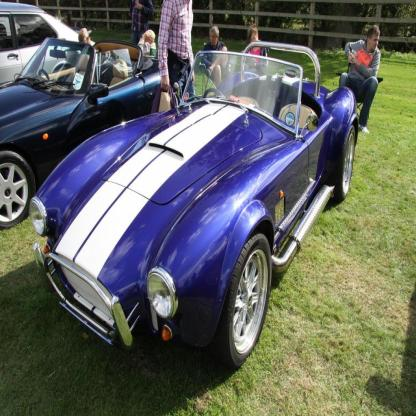Car: (30, 42, 361, 369), (1, 36, 171, 224), (1, 2, 93, 79)
